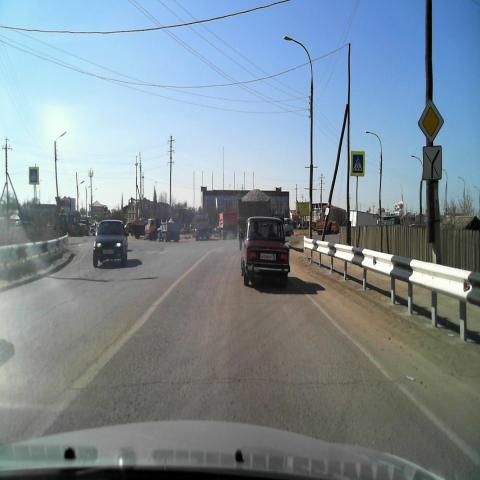2_1: (418, 100, 444, 144)
5_19_1: (350, 150, 365, 176), (28, 166, 40, 184)
8_13: (422, 145, 442, 180)
